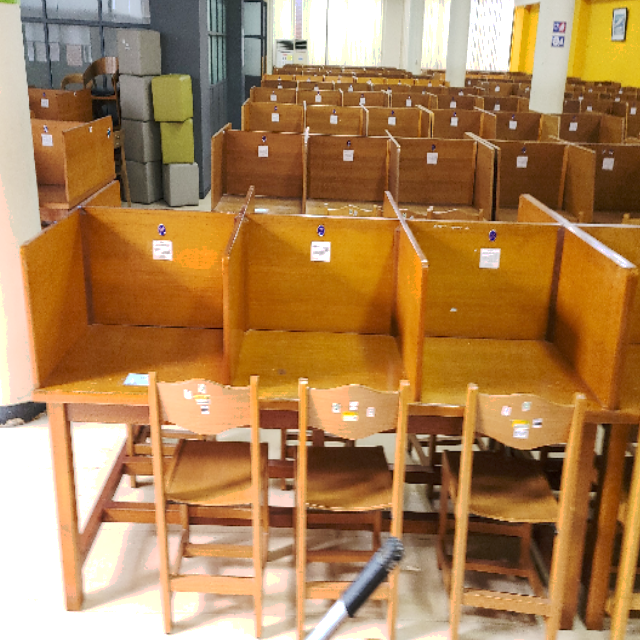empty: (425, 193, 619, 508), (29, 193, 224, 478), (231, 199, 420, 480)
